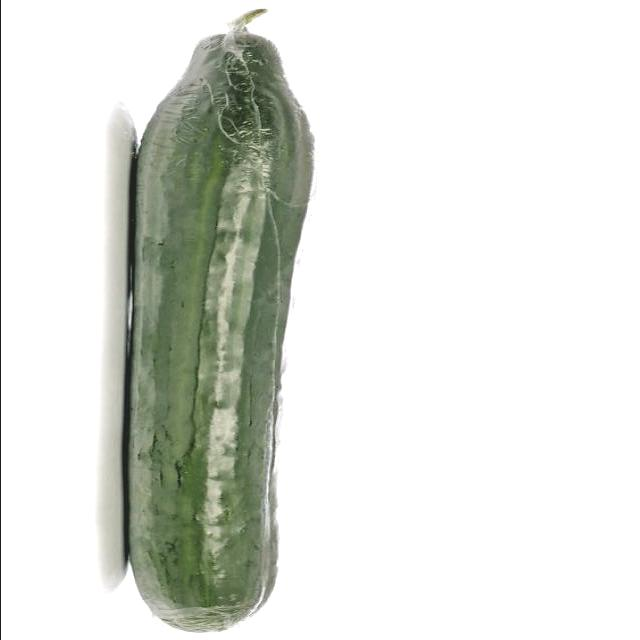Cucumber: (121, 24, 327, 634)
